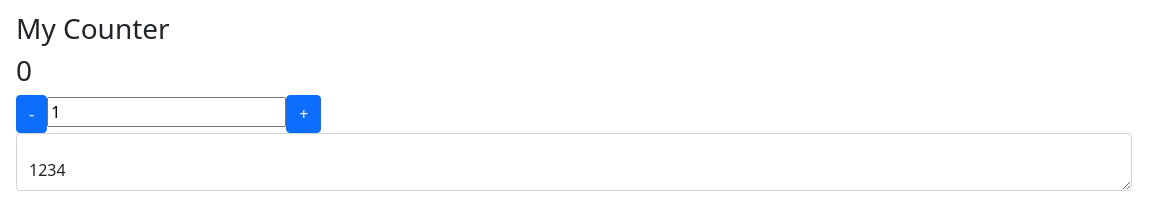
Test case: click subtract btn,the count should be -1
The width and height of the screenshot is (1149, 208).
Check: the heading with test id "counter" reads "0", box [16,51,32,89]
Click the button with test id "subBtn": (32, 114) [16,95,47,133]
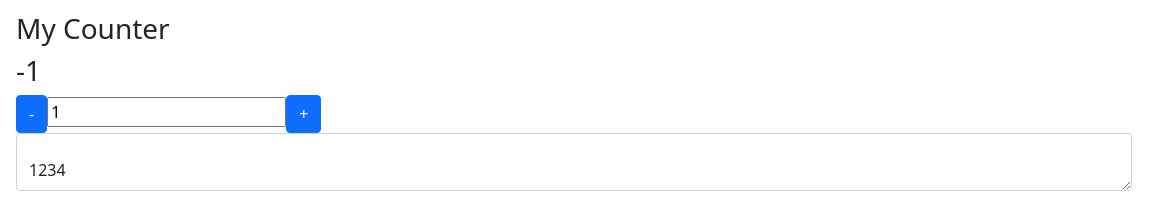
Check: the heading with test id "counter" reads "-1", box [16,51,41,89]
